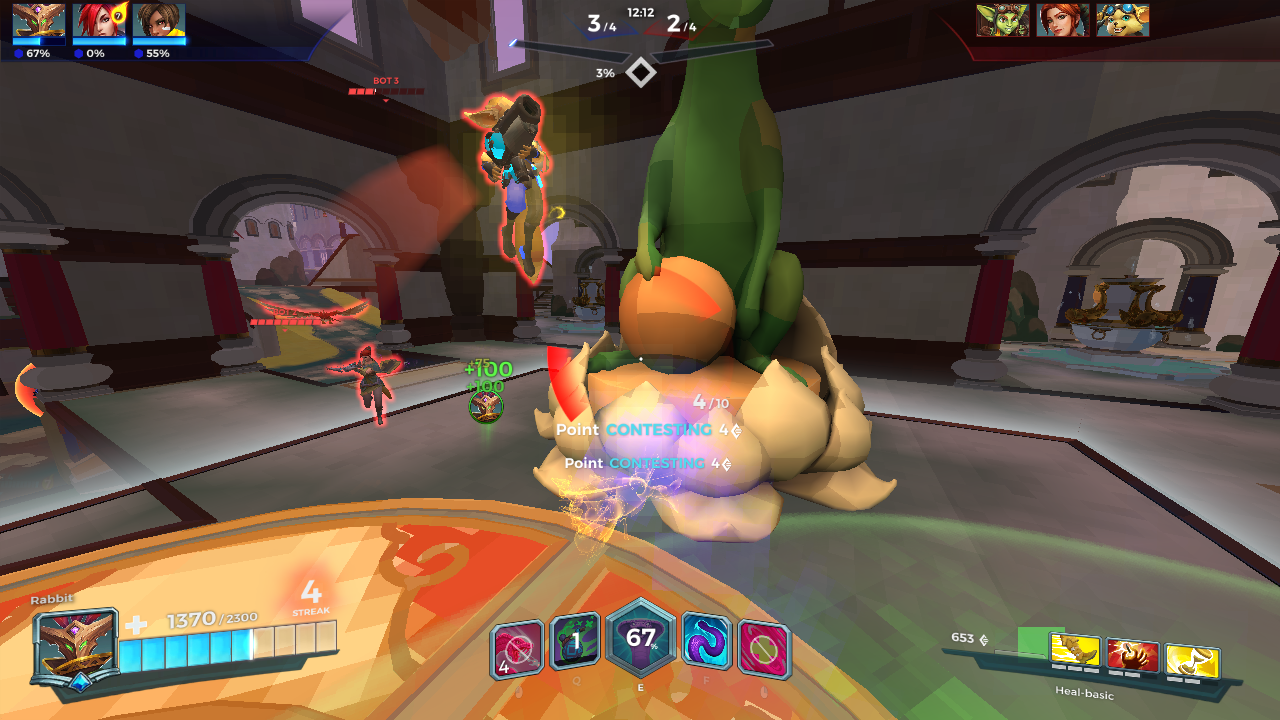model: (468, 80, 555, 278), (340, 342, 401, 433)
